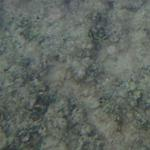dead: (27, 1, 142, 145)
